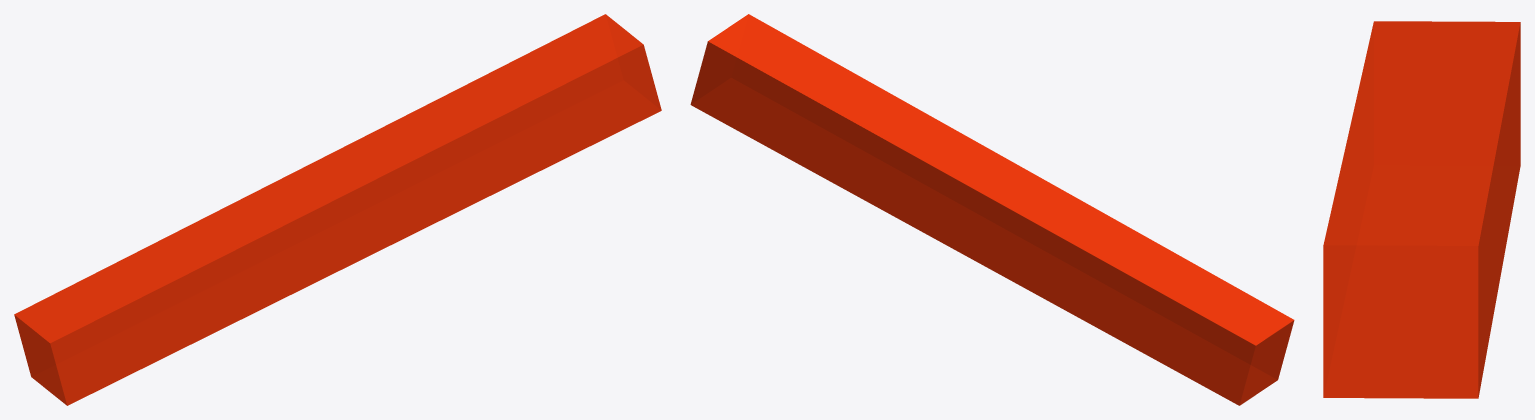
File: Event_421278790_EErechit_34.fbx
3 views of the same model, side by side, from view 1: azimuth 30°, elevation 25°; view 2: azimuth 150°, elevation 25°; view 3: azimuth 270°, elevation 25° (orthographic). The views are drawn at different scales.
Visible parts, largest first — view 1: Model; view 2: Model; view 3: Model.
Boxes of the visible parts, left/top/right/bottom form: Model: left=14, top=14, right=661, bottom=405; Model: left=690, top=14, right=1294, bottom=405; Model: left=1323, top=21, right=1520, bottom=398.
Size of the model in its own units: 0.6602 by 0.2459 by 0.0975.
